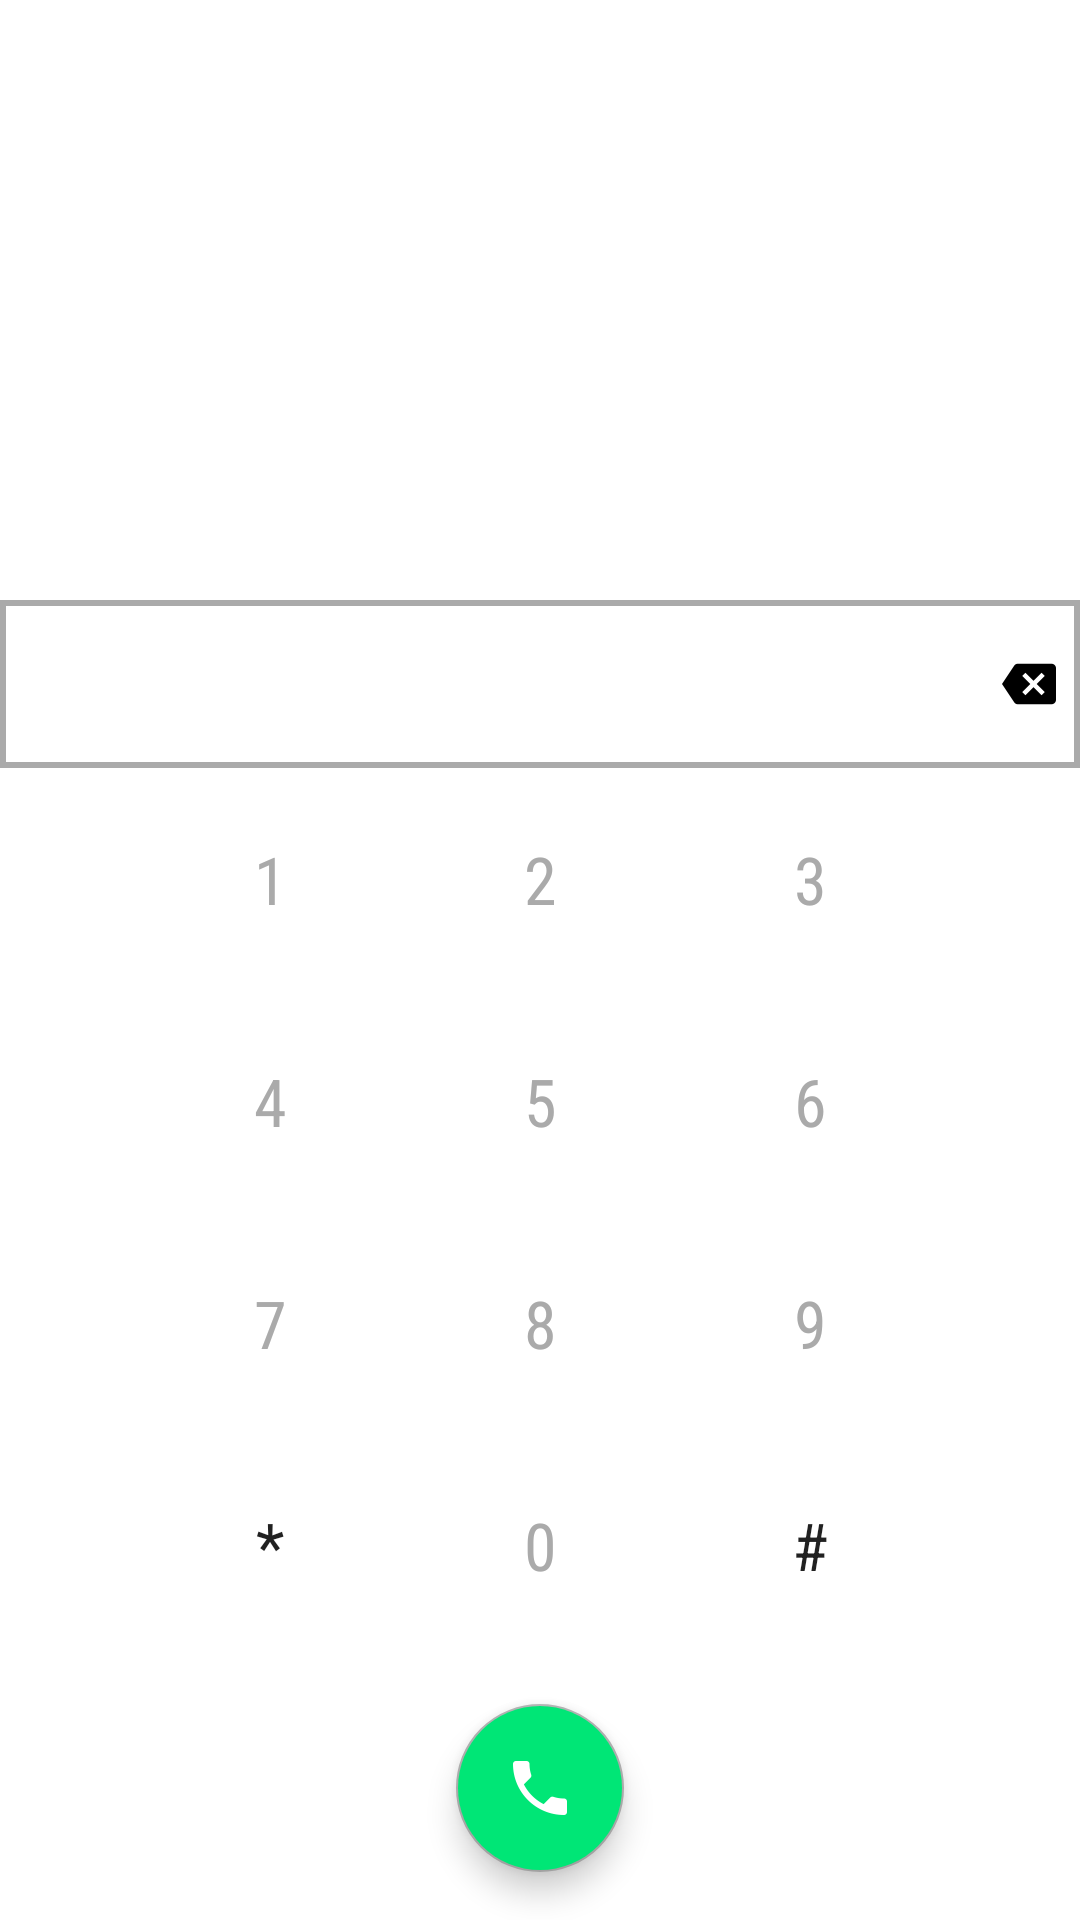

Point at icon controls on the screen. Image size 1080x1920, points as (x,y).
call: (540,1788)
